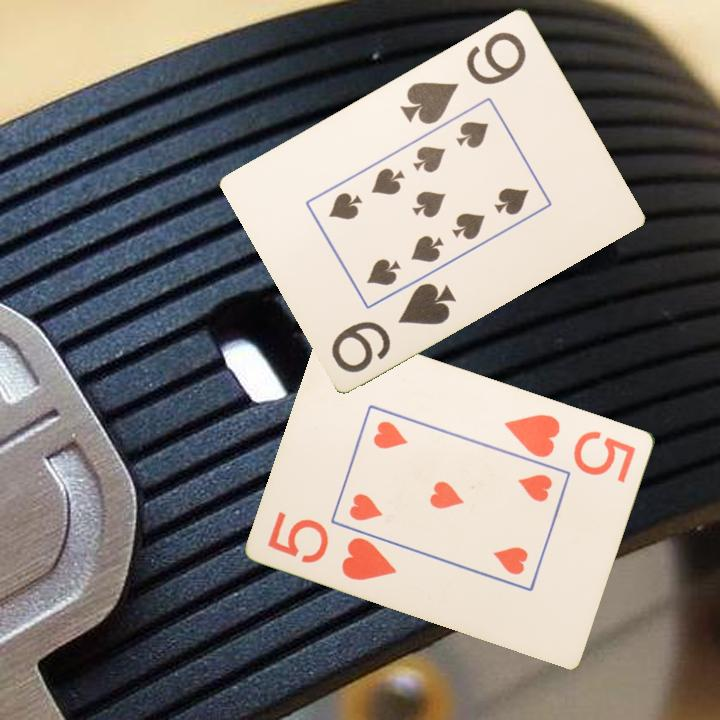5h: (501, 410, 640, 486), (264, 507, 400, 583)
9s: (396, 27, 530, 127), (327, 278, 460, 376)
